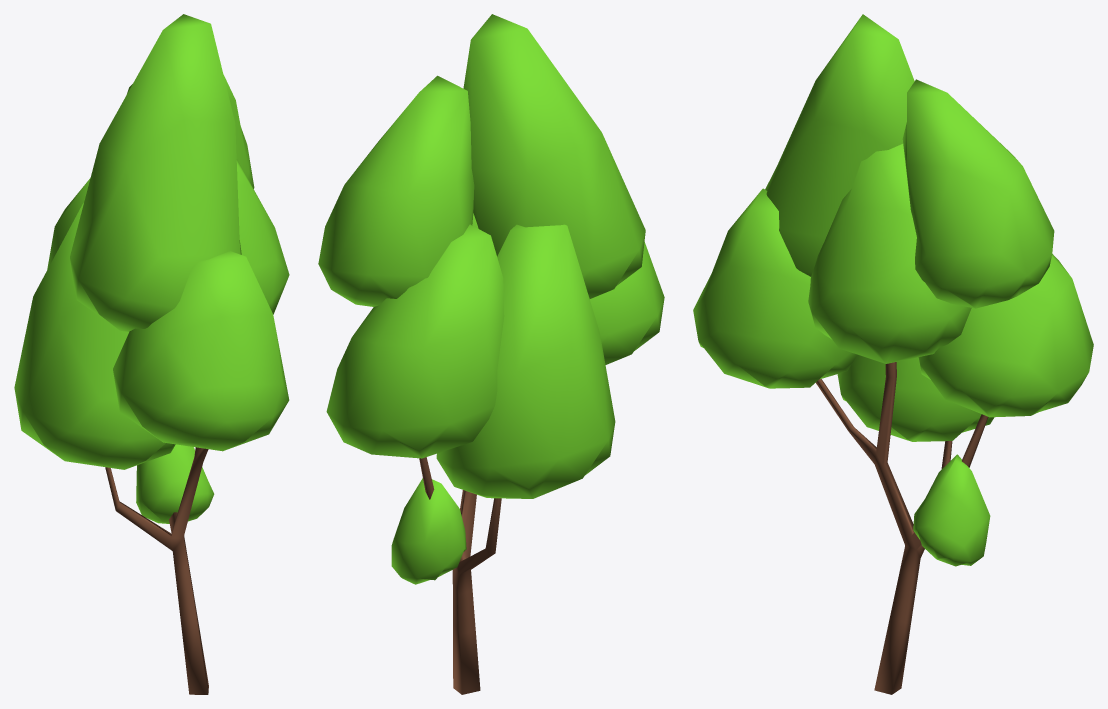
The model's file is Tree_01a.fbx.
3 renders of one model, left to right at view 1: azimuth 30°, elevation 25°; view 2: azimuth 150°, elevation 25°; view 3: azimuth 270°, elevation 25°, orthographic. The views are drawn at different scales.
Parts seen in each view (by area): view 1: Tree_01a; view 2: Tree_01a; view 3: Tree_01a.
Part boxes in pixels (box(x1,y1,x2,y2)): Tree_01a: box(14, 14, 289, 694); Tree_01a: box(318, 14, 664, 694); Tree_01a: box(693, 14, 1093, 694).
Bounding box in the file's own units: 160 × 411 × 228.
